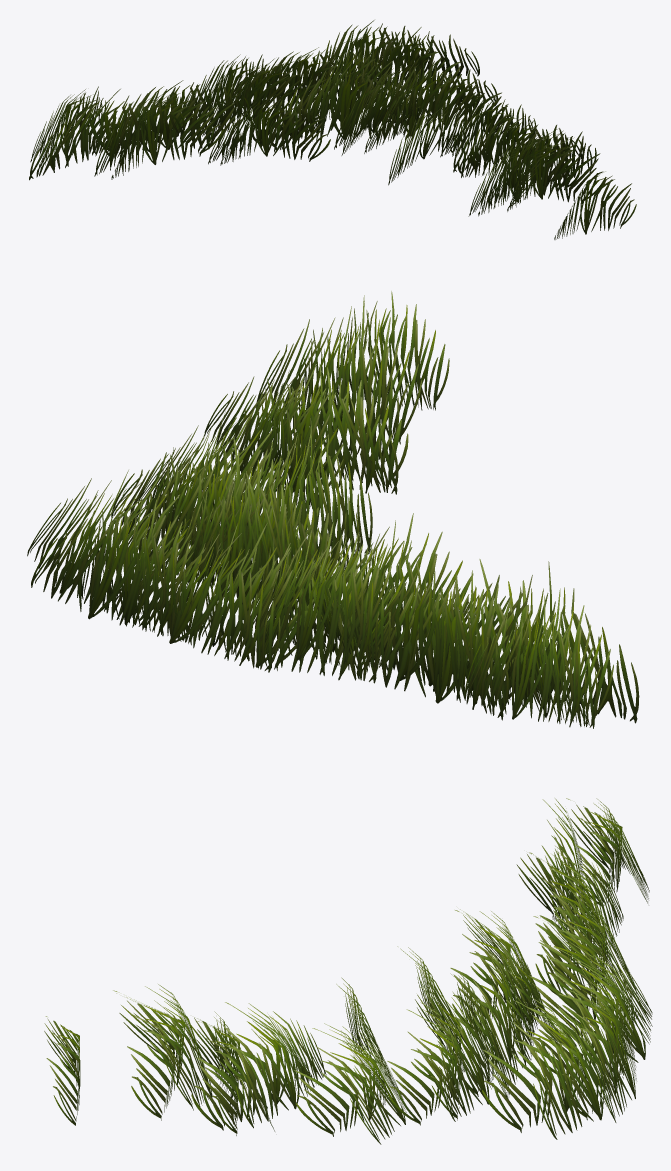
Rendered from grassKit_front_corner_dl.fbx.
3 views of the same model, one above another, from view 1: azimuth 30°, elevation 25°; view 2: azimuth 150°, elevation 25°; view 3: azimuth 270°, elevation 25° (orthographic). The views are drawn at different scales.
Visible parts, largest first — view 1: grassKit_front_corner_dl; view 2: grassKit_front_corner_dl; view 3: grassKit_front_corner_dl.
Part boxes in pixels (x1=…): grassKit_front_corner_dl: x1=29, y1=20, x2=636, y2=239; grassKit_front_corner_dl: x1=27, y1=291, x2=639, y2=728; grassKit_front_corner_dl: x1=44, y1=798, x2=652, y2=1144.
Bounding box in the file's own units: 4.74 × 1.11 × 4.28.
